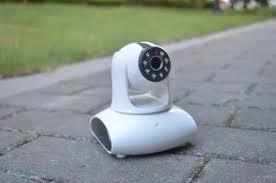maru: (111, 42, 177, 114)
